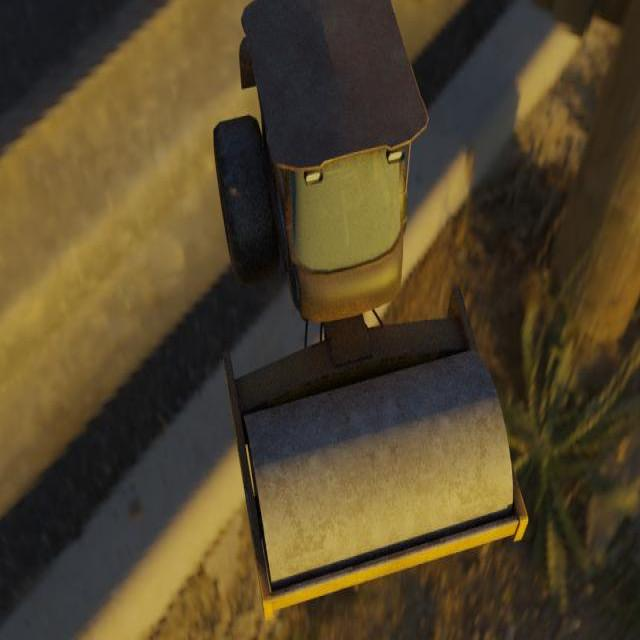Roller: (212, 0, 528, 623)
